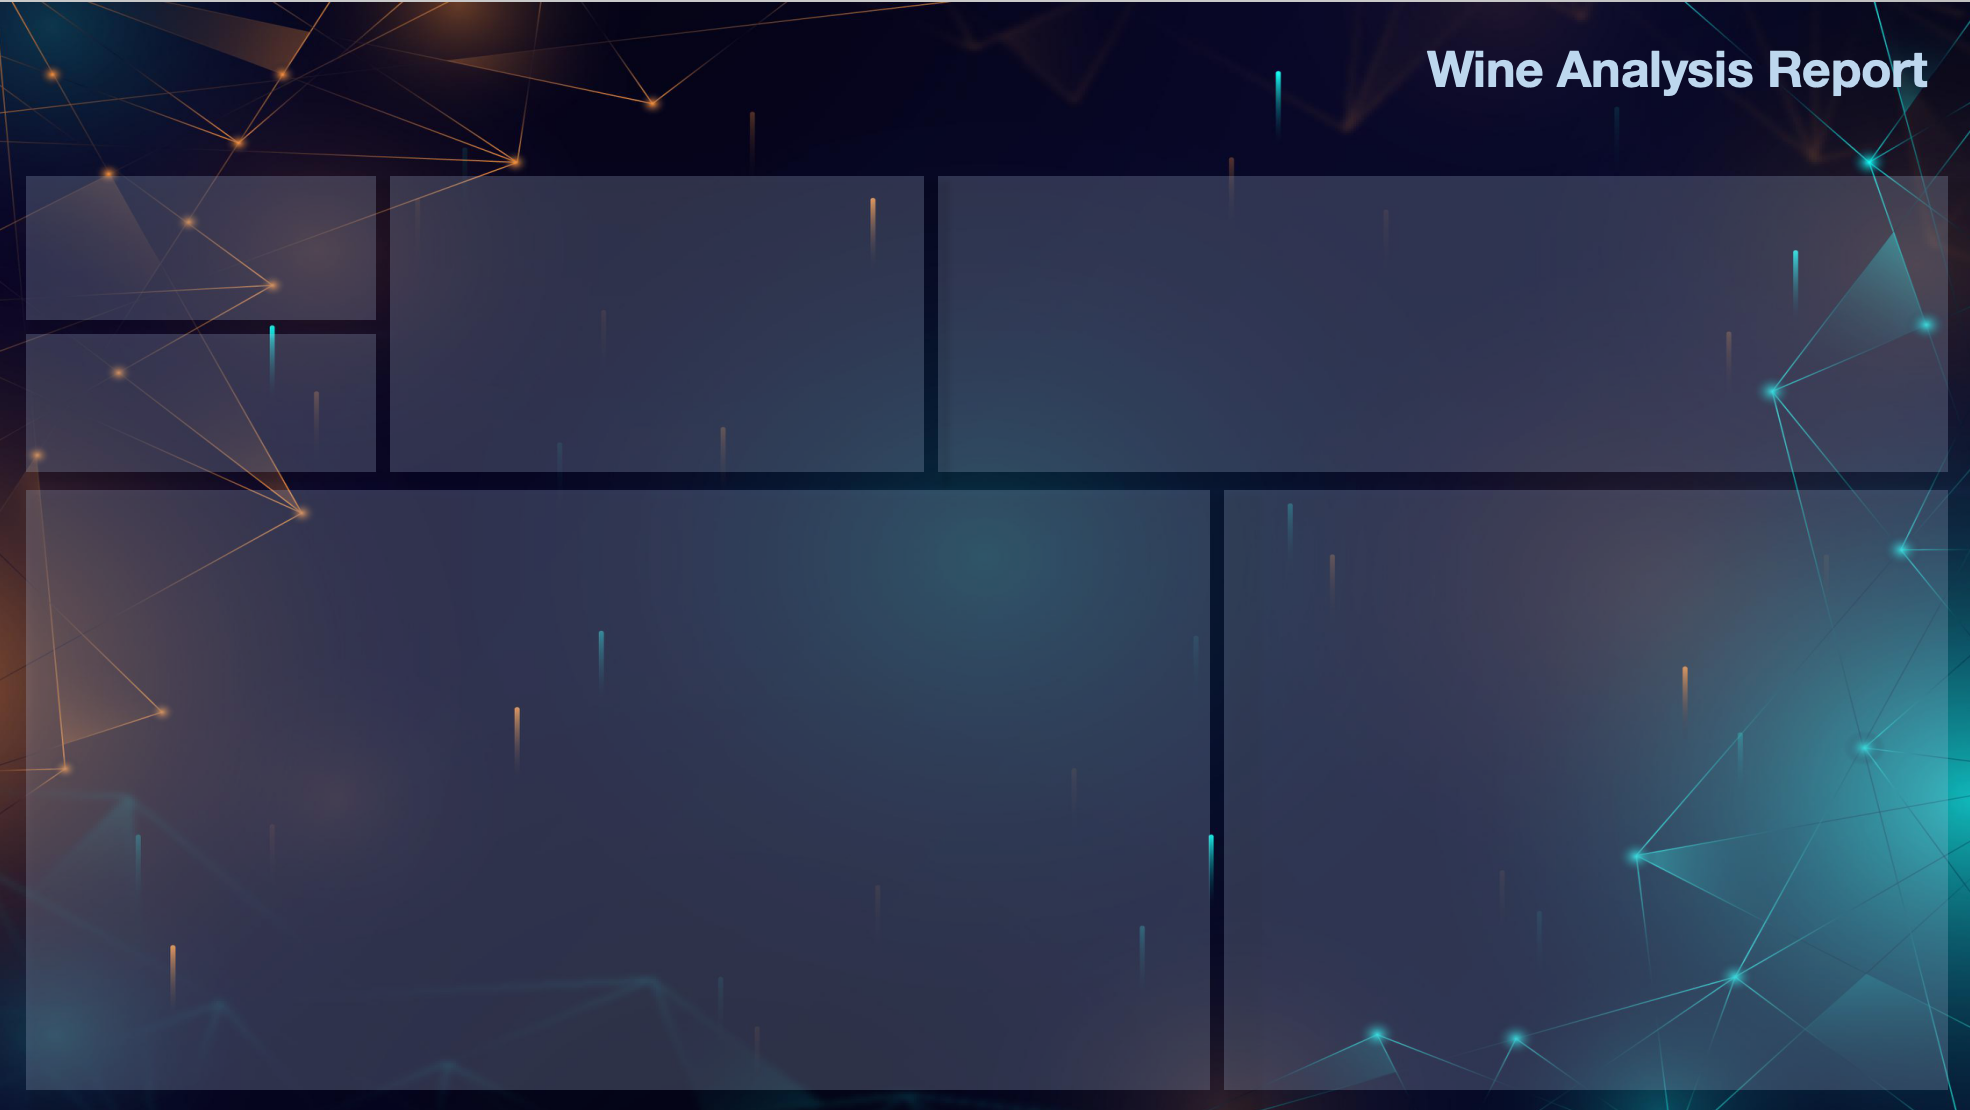

Layout of this report page (visuals, bound fields, positions):
{"tool":"powerbi","page":{"name":"Dashboard","canvas":[1280,720],"ordinal":0},"visuals":[{"type":"slicer","fields":{"Values":["dates.Date Hierarchy.DateYear","dates.Date Hierarchy.Quarter","dates.Date Hierarchy.YearMonth"]},"box":[15.5,13.9,247.7,80.5],"z":0},{"type":"slicer","fields":{"Values":["product.Country","product.Province"]},"box":[281.8,13.9,250.8,80.5],"z":1000},{"type":"advancedSlicerVisual","title":"Stores","fields":{"Values":["stores.StoreName"]},"box":[545.3,14.1,350.7,80.6],"z":2000},{"type":"tableEx","fields":{"Values":["product.Title","Measure Table.Average Score","product.Vintage","Measure Table.Total Orders","Measure Table.Total Sales","Measure Table.Gross Profit","Measure Table.Gross Margin %"]},"box":[797.4,500.5,468.5,206.1],"z":3000},{"type":"cardVisual","fields":{"Data":["Min(product.Title)"]},"box":[253.4,111.4,349.4,193.3],"z":4000},{"type":"cardVisual","fields":{"Data":["Measure Table.Total Orders"]},"box":[15.5,111.5,227.6,96],"z":5000},{"type":"cardVisual","fields":{"Data":["Measure Table.Average Score"]},"box":[15.5,209,227.6,96],"z":6000},{"type":"cardVisual","fields":{"Data":["Measure Table.Total Orders","Measure Table.Total Sales","Measure Table.Gross Profit","Measure Table.Gross Margin %"]},"box":[614.7,111.5,651.9,193.6],"z":7000},{"type":"lineChart","title":"Gross Profit","fields":{"Category":["dates.Date Hierarchy.DateYear","dates.Date Hierarchy.Quarter","dates.Date Hierarchy.YearMonth"],"Y":["Measure Table.Adjusted Profit","Measure Table.Gross Profit"]},"box":[17,319,548.1,181.2],"z":8000},{"type":"slicer","fields":{"Values":["price adjustment.price adjustment"]},"box":[577.5,320.5,207.5,97.5],"z":9000},{"type":"slicer","fields":{"Values":["Orders Distribution Metrics Selection.Orders Distribution Metrics Selection"]},"box":[577.5,419.6,207.5,97.5],"z":10000},{"type":"clusteredColumnChart","title":"Total Orders","fields":{"Category":["product.Score"],"Y":["Measure Table.Total Orders"]},"box":[797.4,319,469.2,167.2],"z":11000},{"type":"gauge","title":"Monthly Orders vs. Target","fields":{"Y":["Measure Table.Total Orders"],"MaxValue":["Measure Table.Target Orders"]},"box":[16.6,517.1,247,179.2],"z":12000},{"type":"gauge","title":"Monthly Sales vs. Target","fields":{"MaxValue":["Measure Table.Target Sales"],"Y":["Measure Table.Total Sales"]},"box":[281.6,517.1,247,179.2],"z":13000},{"type":"gauge","title":"Monthly Profit vs. Target","fields":{"Y":["Measure Table.Gross Profit"],"MaxValue":["Measure Table.Target Gross Profit"]},"box":[537.6,514.6,247,179.2],"z":14000}]}

Visuals, with their boxes in screenshot pixels (x1, y1, x2, y2), scaled from the page's 1280x720 canvas onto the 1970x1110 screenshot:
slicer - dates.Date Hierarchy.DateYear x dates.Date Hierarchy.Quarter: {"x1": 24, "y1": 21, "x2": 405, "y2": 146}
slicer - product.Country x product.Province: {"x1": 434, "y1": 21, "x2": 820, "y2": 146}
"Stores" advancedSlicerVisual: {"x1": 839, "y1": 22, "x2": 1379, "y2": 146}
tableEx - product.Title x Measure Table.Average Score: {"x1": 1227, "y1": 772, "x2": 1948, "y2": 1089}
cardVisual - Min(product.Title): {"x1": 390, "y1": 172, "x2": 928, "y2": 470}
cardVisual - Measure Table.Total Orders: {"x1": 24, "y1": 172, "x2": 374, "y2": 320}
cardVisual - Measure Table.Average Score: {"x1": 24, "y1": 322, "x2": 374, "y2": 470}
cardVisual - Measure Table.Total Orders x Measure Table.Total Sales: {"x1": 946, "y1": 172, "x2": 1949, "y2": 470}
"Gross Profit" lineChart: {"x1": 26, "y1": 492, "x2": 870, "y2": 771}
slicer - price adjustment.price adjustment: {"x1": 889, "y1": 494, "x2": 1208, "y2": 644}
slicer - Orders Distribution Metrics Selection.Orders Distribution Metrics Selection: {"x1": 889, "y1": 647, "x2": 1208, "y2": 797}
"Total Orders" clusteredColumnChart: {"x1": 1227, "y1": 492, "x2": 1949, "y2": 750}
"Monthly Orders vs. Target" gauge: {"x1": 26, "y1": 797, "x2": 406, "y2": 1073}
"Monthly Sales vs. Target" gauge: {"x1": 433, "y1": 797, "x2": 814, "y2": 1073}
"Monthly Profit vs. Target" gauge: {"x1": 827, "y1": 793, "x2": 1208, "y2": 1070}
